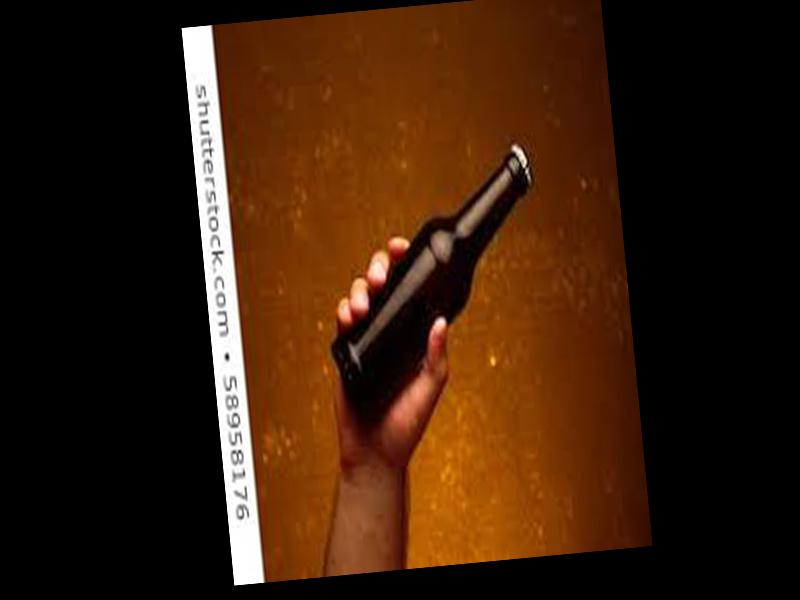Beer: (313, 138, 556, 438)
